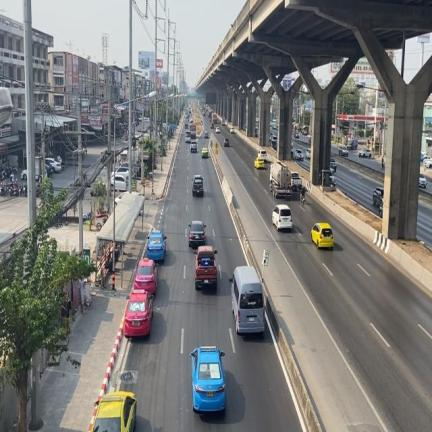car: (311, 223, 333, 248), (272, 205, 292, 230), (188, 221, 205, 247), (192, 175, 202, 196)
motorbike: (9, 182, 18, 195), (0, 182, 7, 195)
pickup: (195, 246, 217, 289)
taxi: (190, 346, 225, 412), (91, 391, 136, 431), (124, 290, 153, 337), (133, 259, 157, 294), (146, 230, 166, 261)
truck: (270, 161, 290, 198)
van: (230, 266, 263, 333)
